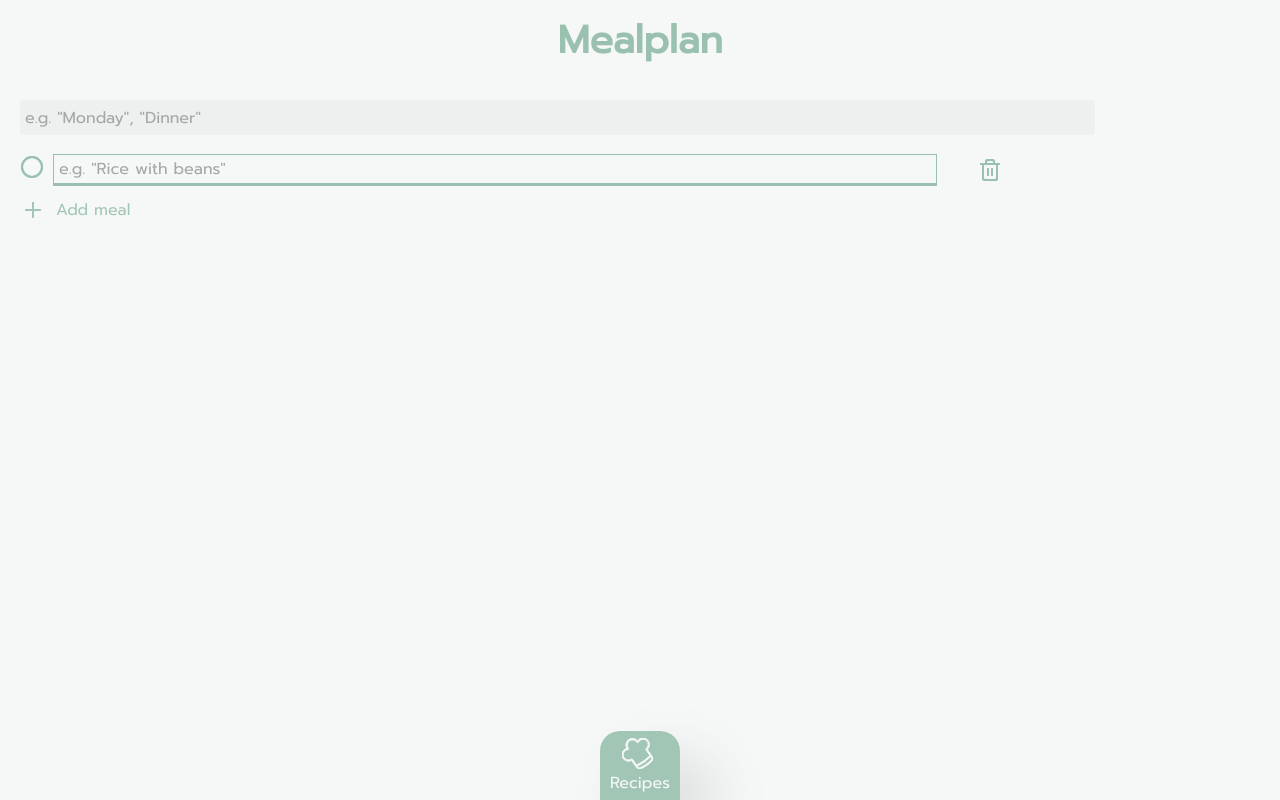
MealplanList › allows changing the title
This screenshot has width=1280, height=800.
Type "Tuesday" into the field named "listtitle" at (558, 118), box [20,100,1095,135]
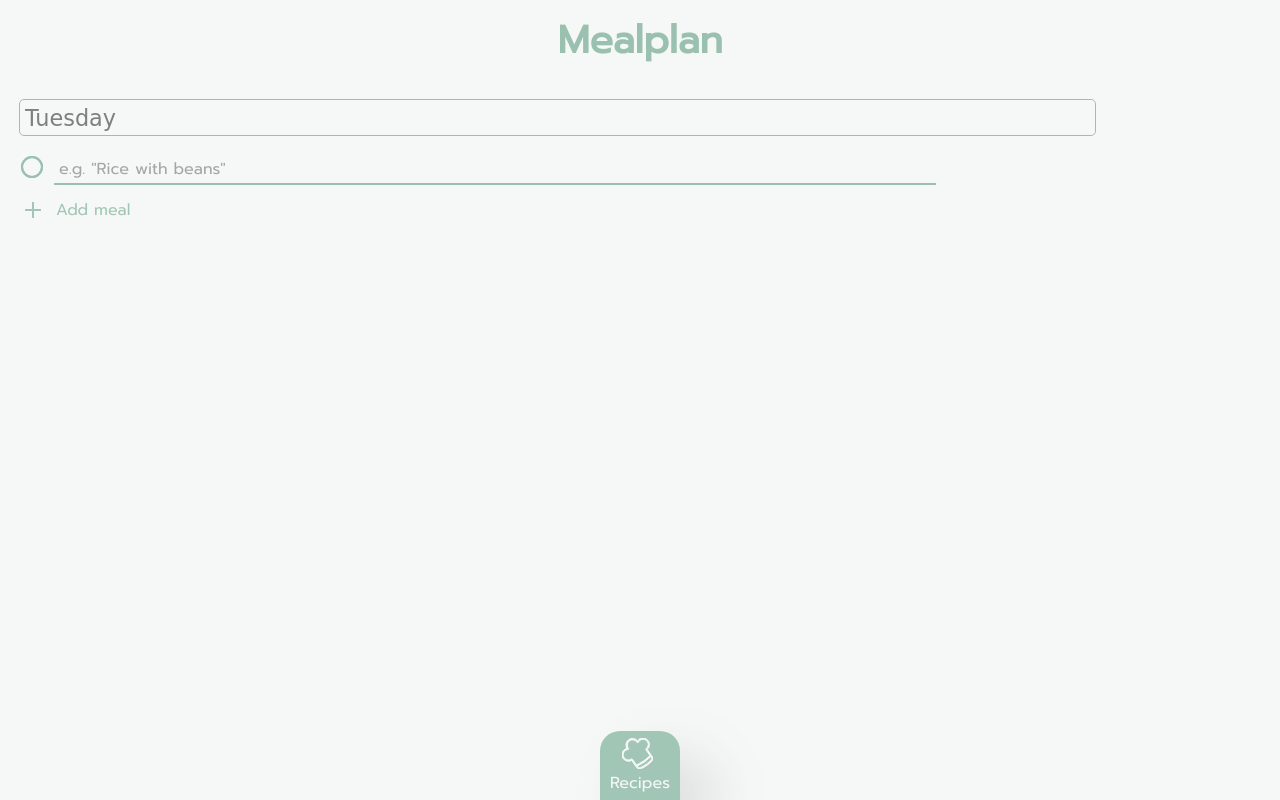
Replace the text in the field named "listtitle" with "Wednesday" at (558, 118), box [20,100,1095,135]
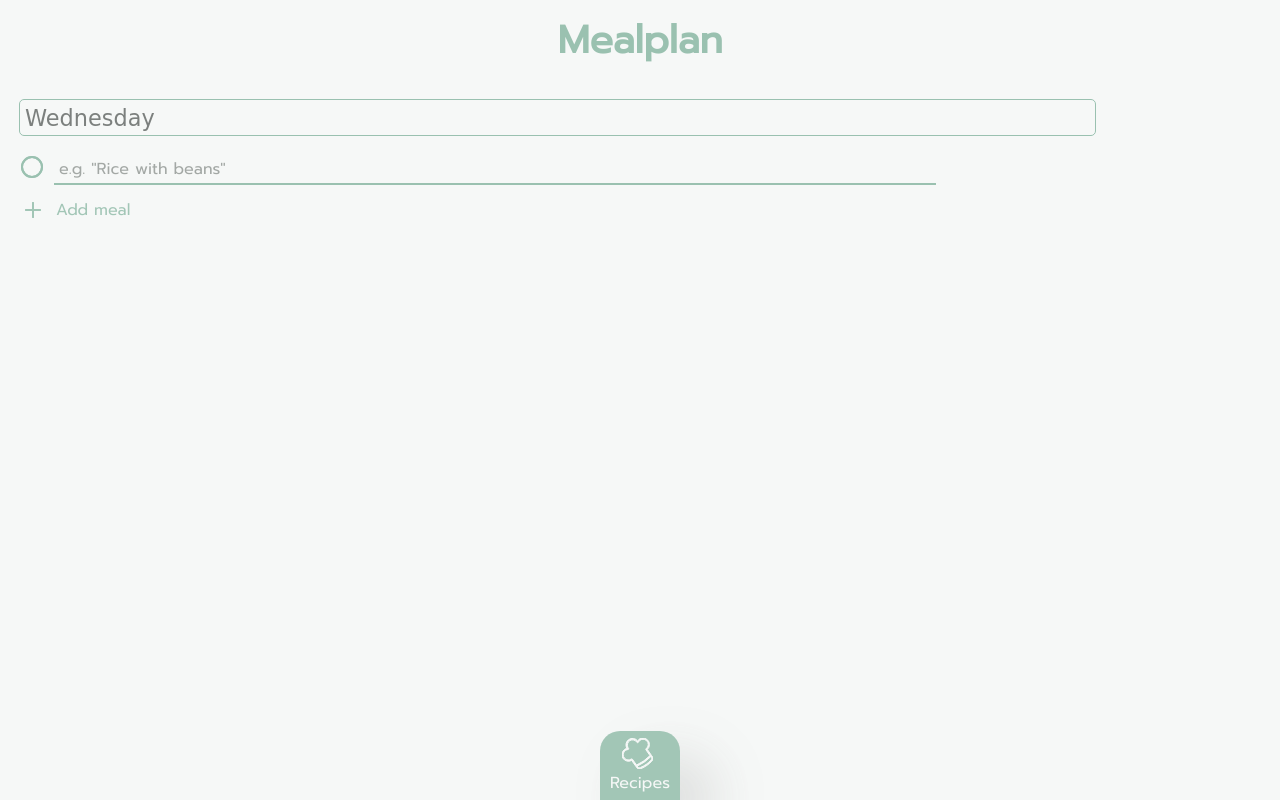
expect the field named "listtitle" holds "Wednesday": met, box [20,100,1095,135]
